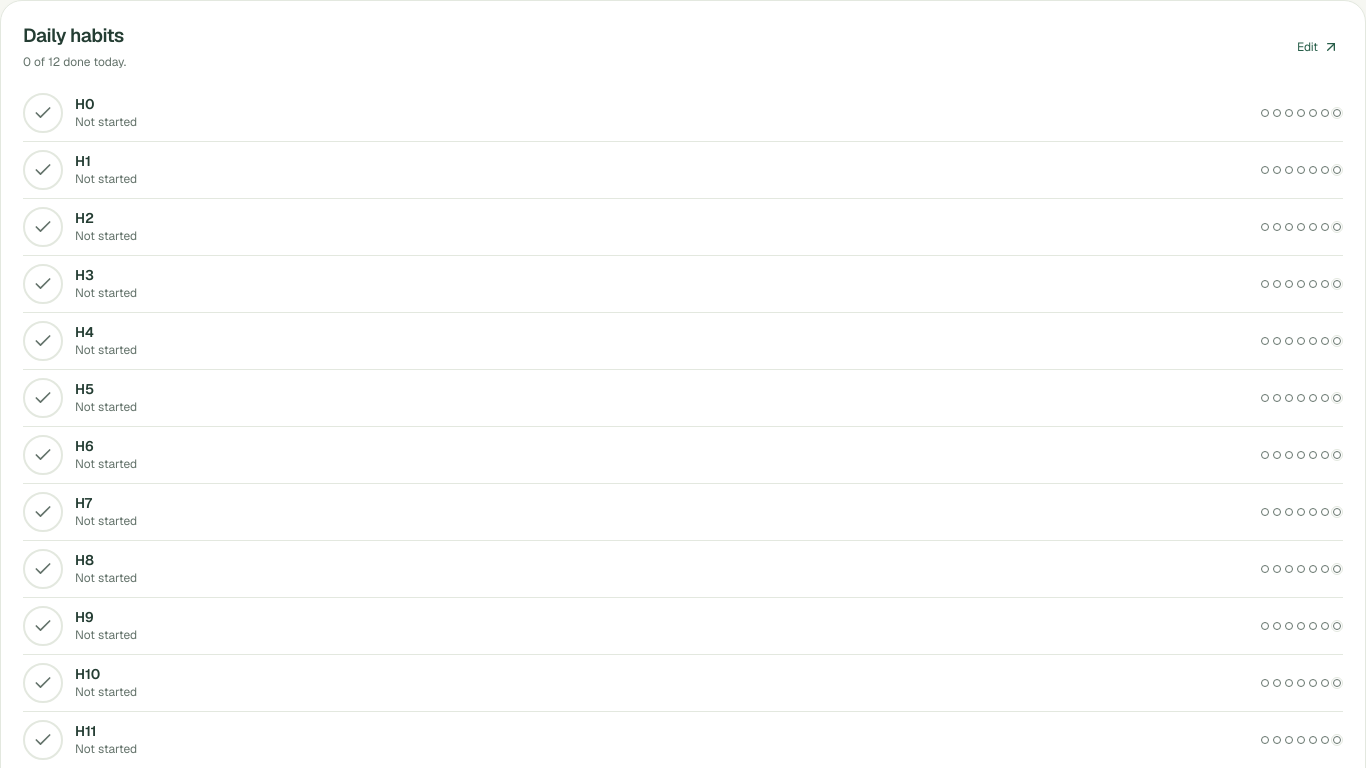
Test case: habits card › stops offering new habits at the limit
The width and height of the screenshot is (1366, 768).
Click the button "Edit".
click(1318, 47)  # box [1293,25,1343,69]
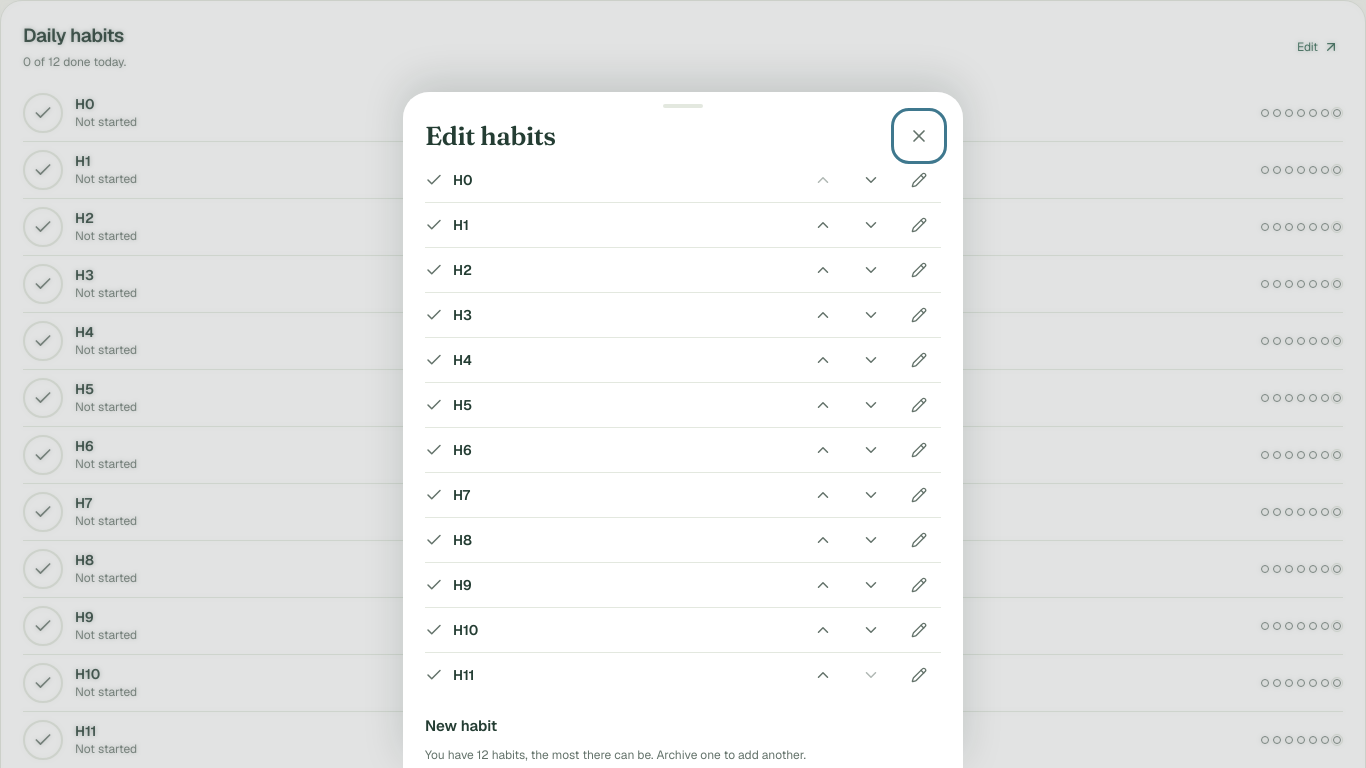
Expected: the field labelled "Habit name" is not shown
Result: the text "You have 12 habits" is shown at [425,747,806,763]
# Editing an existing one still works.
Click the button named "Edit H3".
click(919, 315)  # box [897,293,941,337]
(page scrolled)
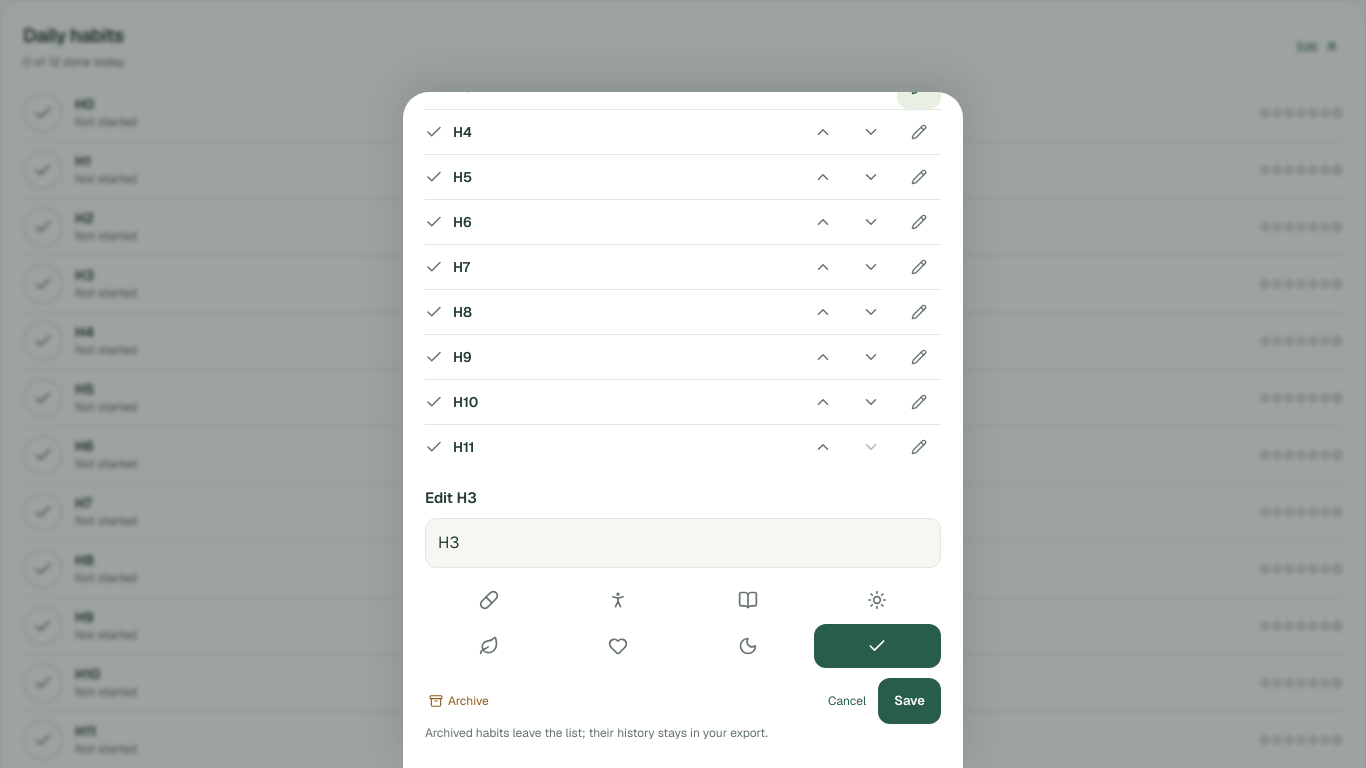
Result: the field named "Habit name" is shown at [425,518,941,568]
